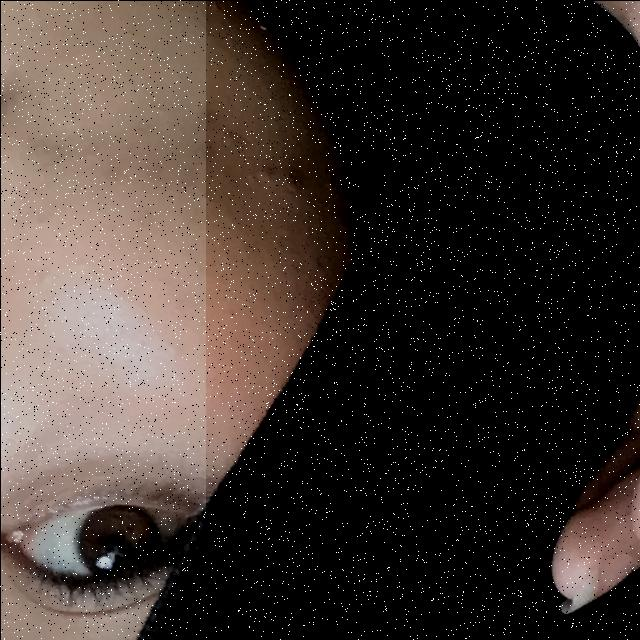mendengar: (205, 0, 640, 624)
